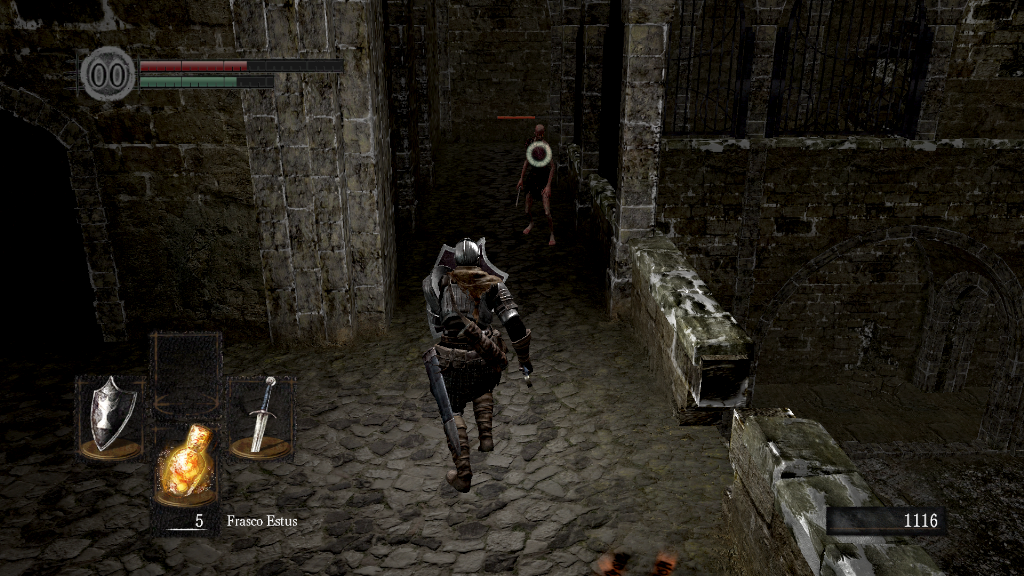health: (138, 58, 343, 71)
hollow: (514, 123, 557, 245)
humanity: (80, 45, 136, 102)
player: (421, 233, 535, 494)
souls: (825, 506, 945, 536)
stamina: (138, 74, 274, 88)
